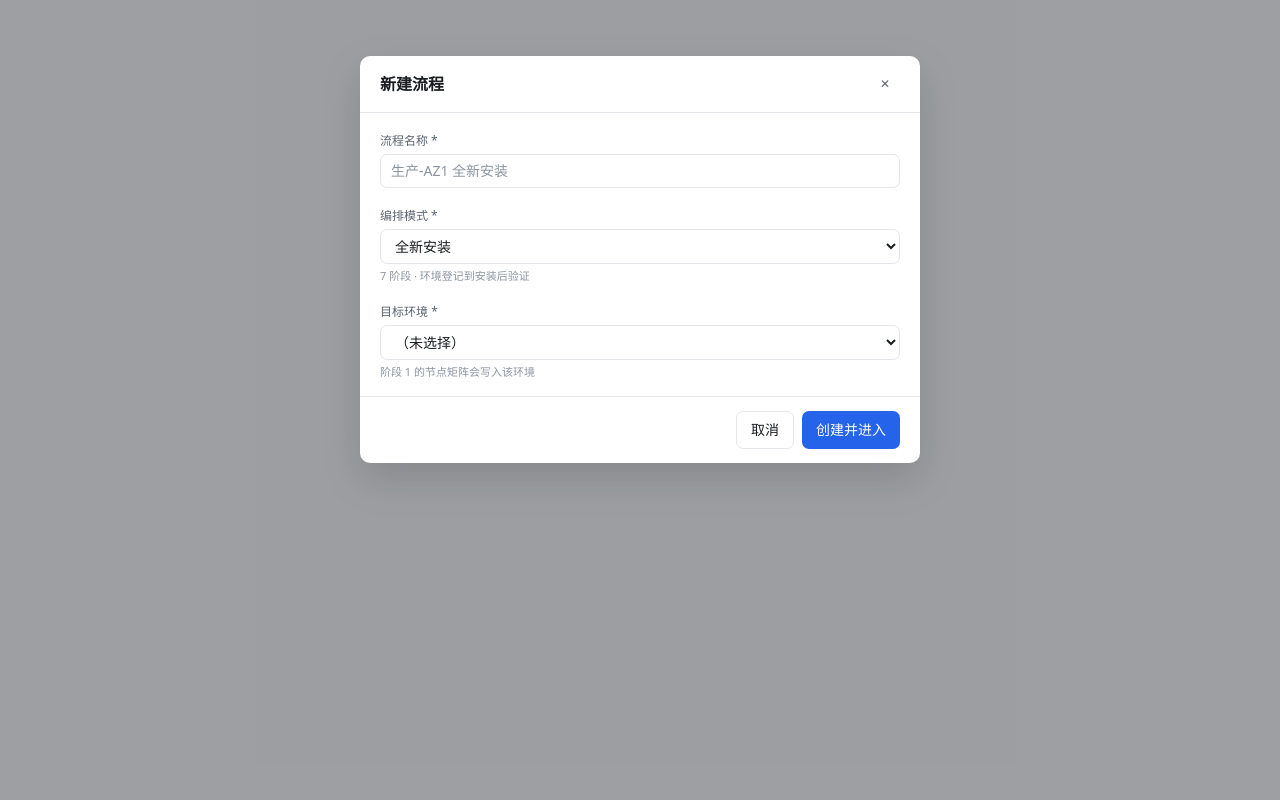
Test: NewFlowDialog › 后端 400：toast 显示后端消息，不导航
Type "生产-AZ1" into the field labelled "流程名称 *". click: (640, 171)
box: [380, 154, 900, 188]
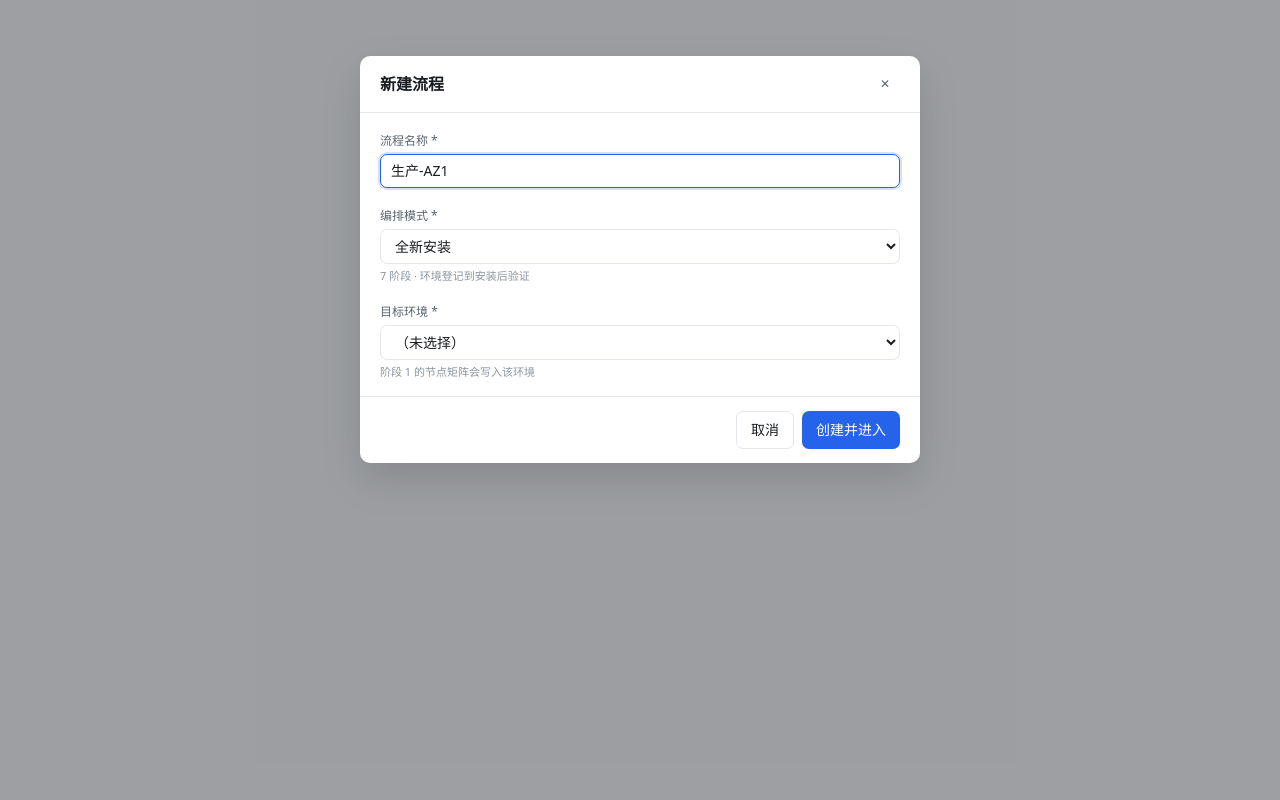
Select "生产-AZ1" in the dropdown labelled "目标环境 * 阶段 1 的节点矩阵会写入该环境". click: (640, 342)
box: [380, 325, 900, 360]
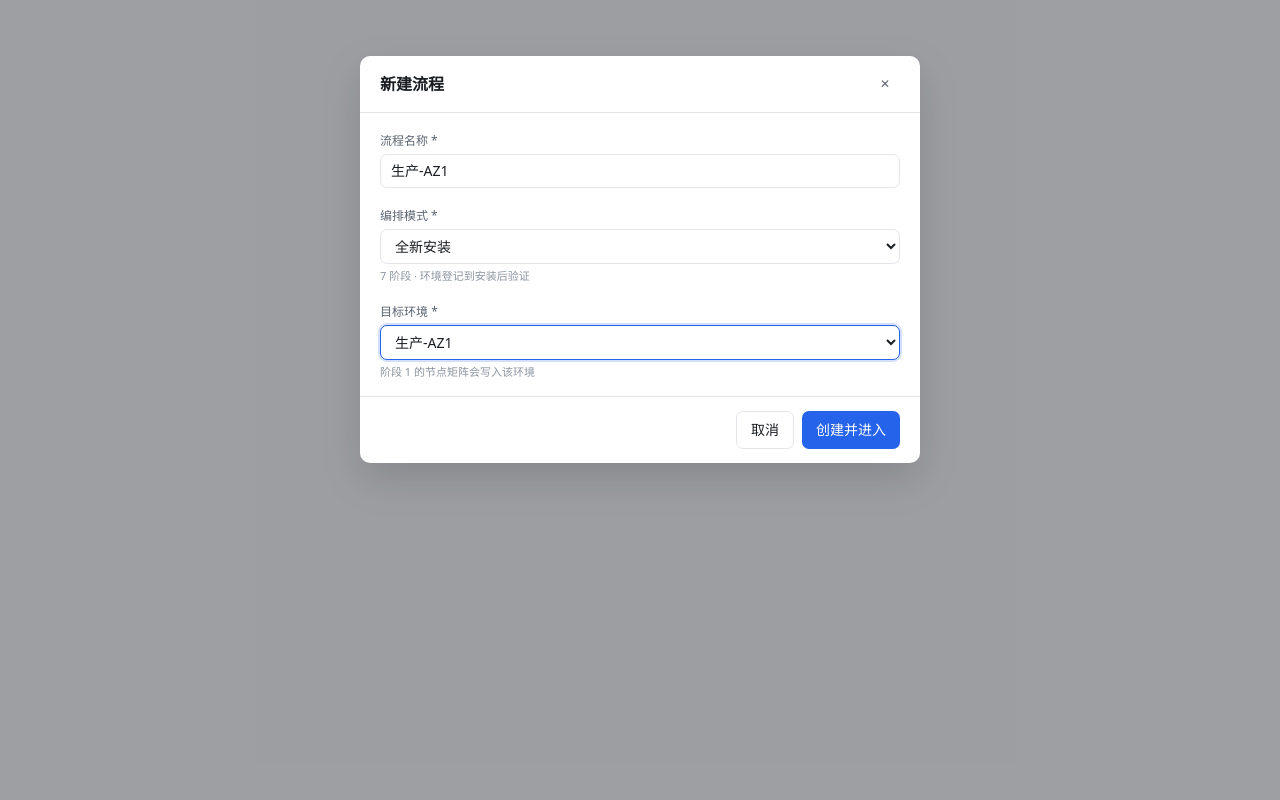
Click the button "创建并进入". click: (851, 430)
box: [802, 411, 900, 449]
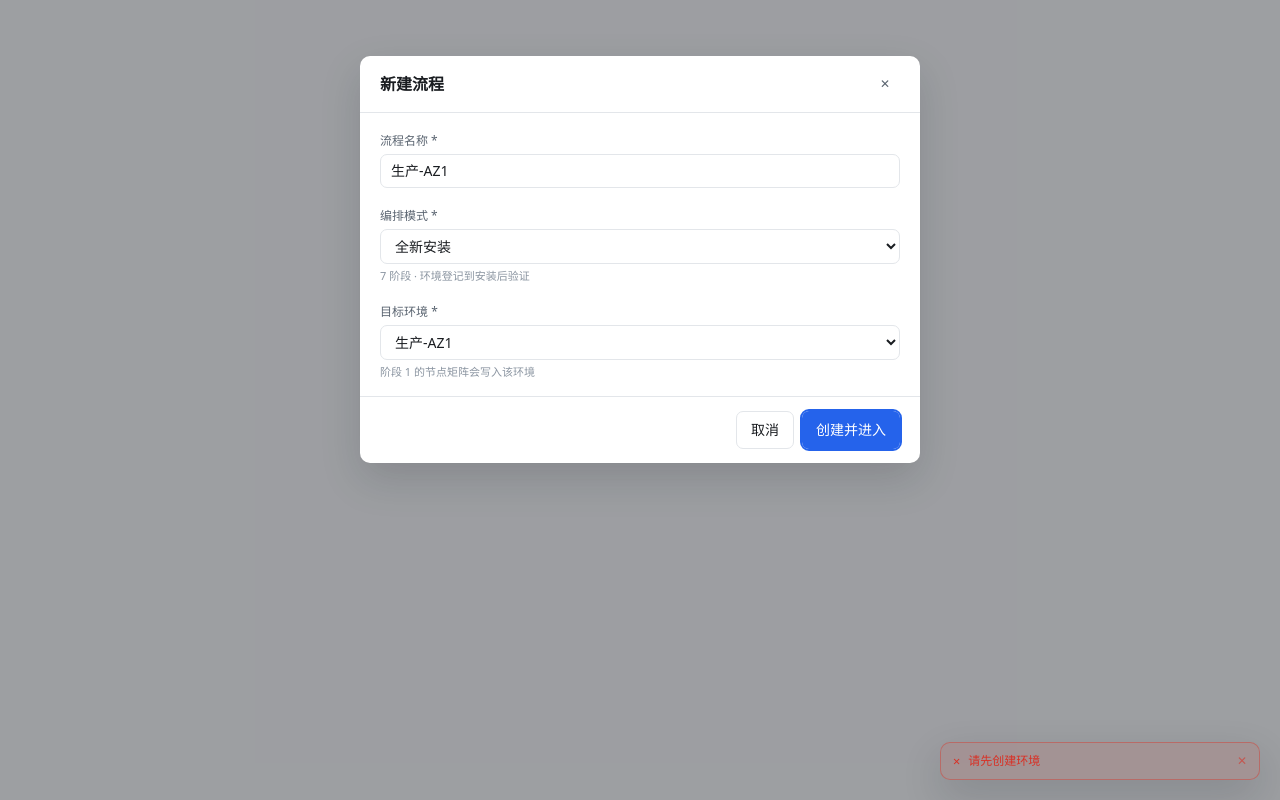
Expected: the text "请先创建环境" is shown, [968, 752, 1040, 769]
